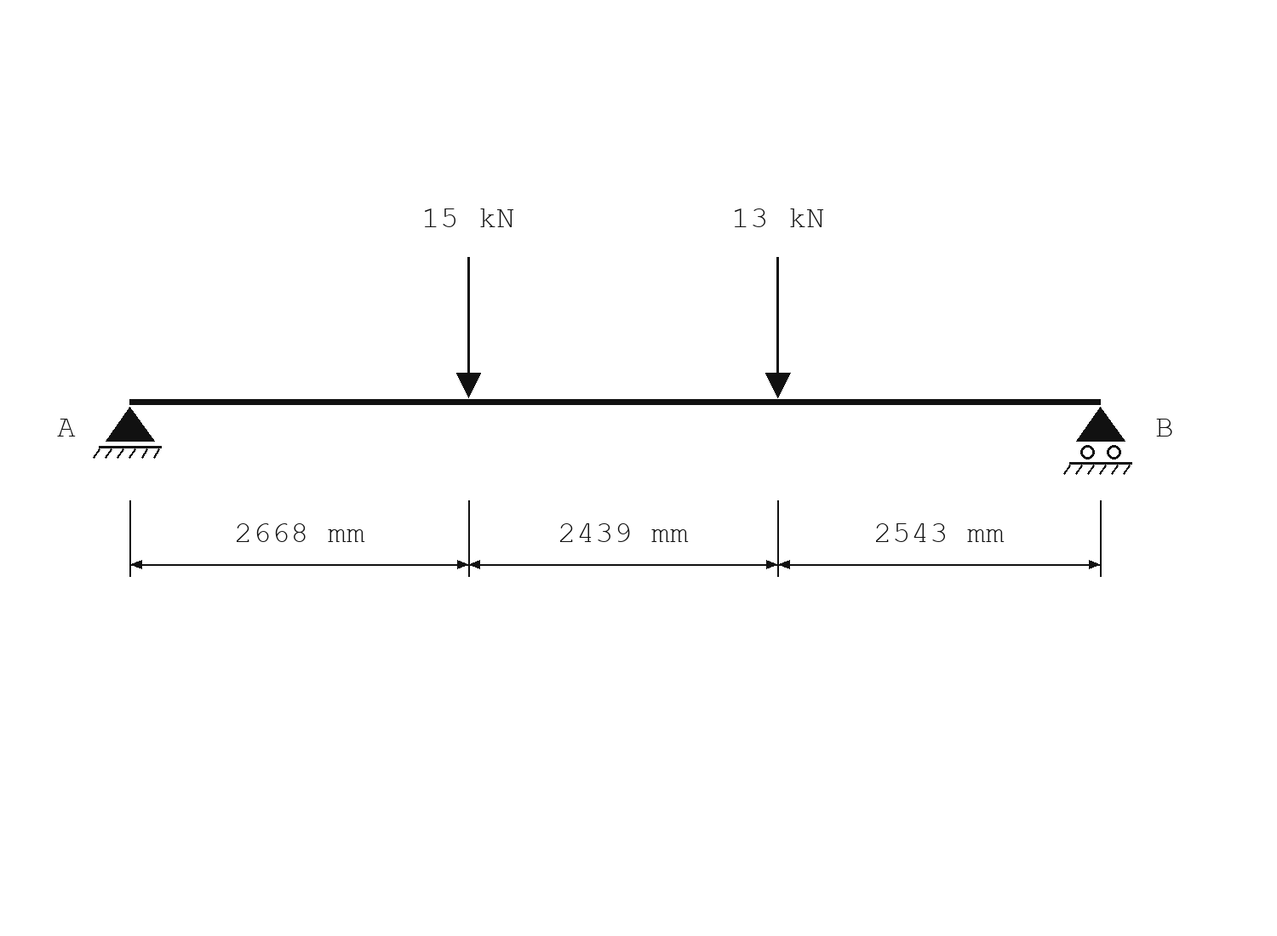pin_support: (93, 407, 162, 459)
point_load: (765, 257, 791, 398), (456, 257, 481, 398)
roller_support: (1063, 407, 1132, 475)
